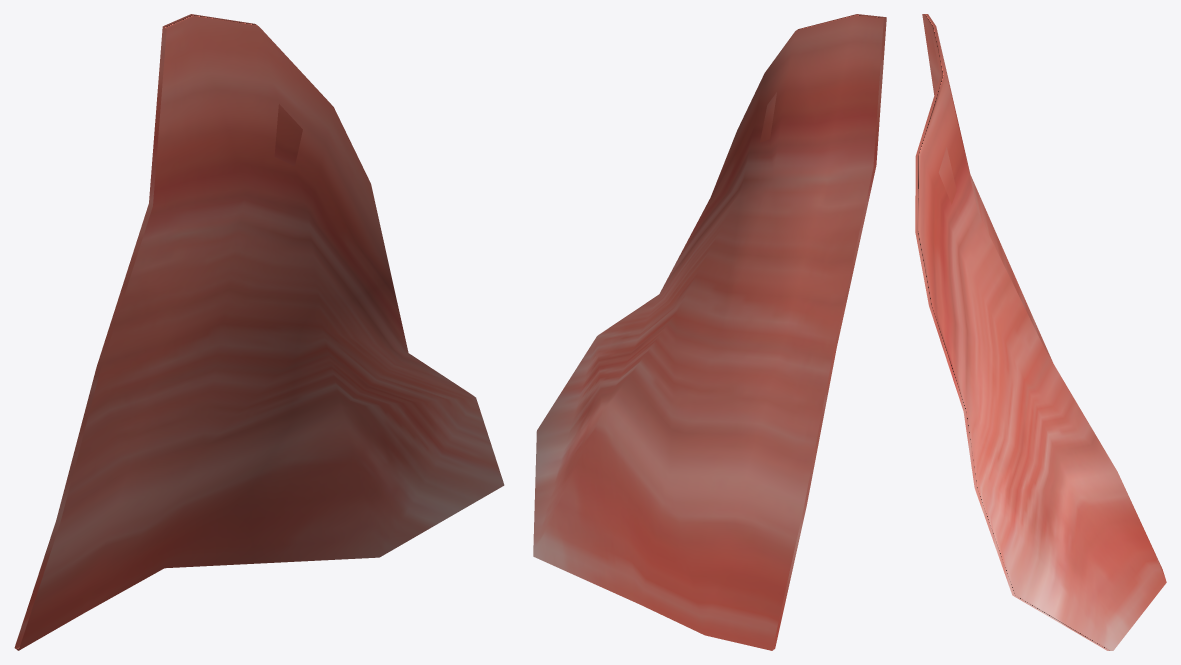
The model's file is Trapezius_Muscle_Left.obj.
3 views of the same model, side by side, from view 1: azimuth 30°, elevation 25°; view 2: azimuth 150°, elevation 25°; view 3: azimuth 270°, elevation 25° (orthographic). The views are drawn at different scales.
Parts seen in each view (by area): view 1: polySurface1 Trapezius_Muscle:pCube3; view 2: polySurface1 Trapezius_Muscle:pCube3; view 3: polySurface1 Trapezius_Muscle:pCube3.
Part boxes in pixels (left/top/right/bottom): polySurface1 Trapezius_Muscle:pCube3: left=14, top=14, right=504, bottom=650; polySurface1 Trapezius_Muscle:pCube3: left=533, top=14, right=886, bottom=650; polySurface1 Trapezius_Muscle:pCube3: left=915, top=14, right=1166, bottom=650.
Bounding box in the file's own units: 1.09 × 1.91 × 0.8143.
